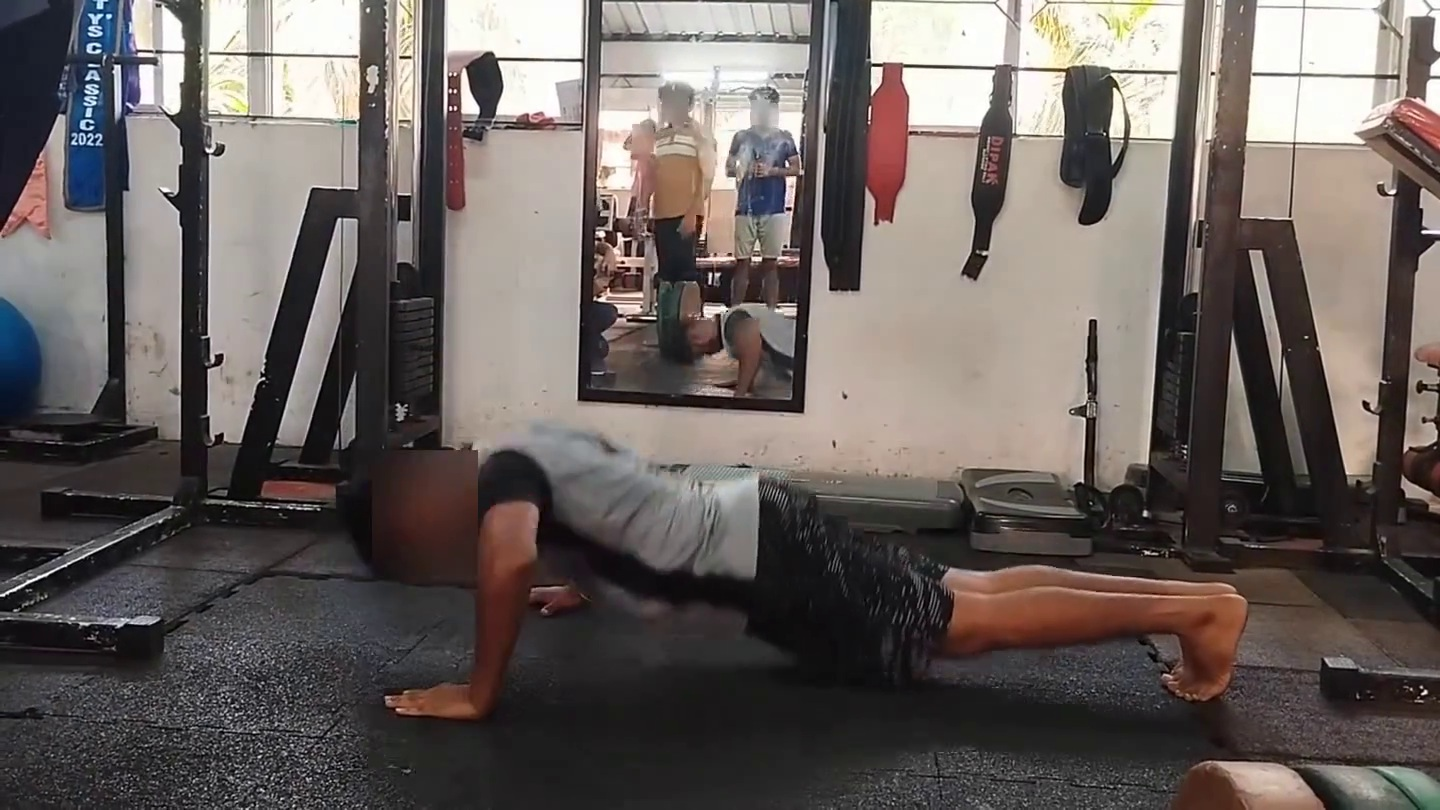push_up: (342, 402, 1302, 789)
